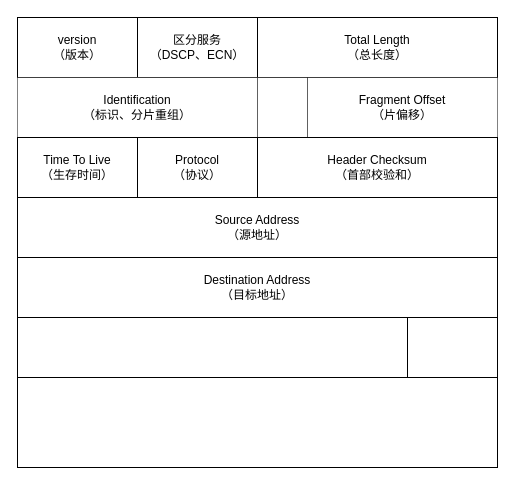
Some shapes in this 515 by 485 pixel diagram are drawn without their labels. The shapes that lost their labels are listed below. From the top down, each one's centre as x and y in pixels, then its label:
At pixel 282 107: "flag（标志位、分片信息）".
At pixel 212 347: "Options 可选字段".
At pixel 452 347: "Pading 填充".
At pixel 257 422: "Data 数据".
